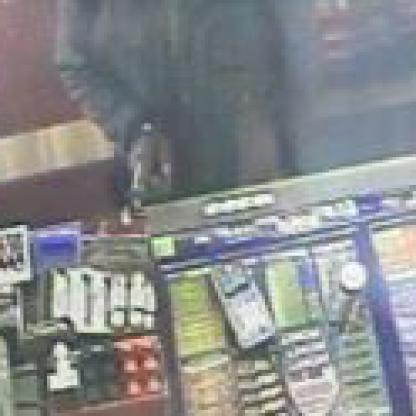gun: (104, 111, 171, 225)
